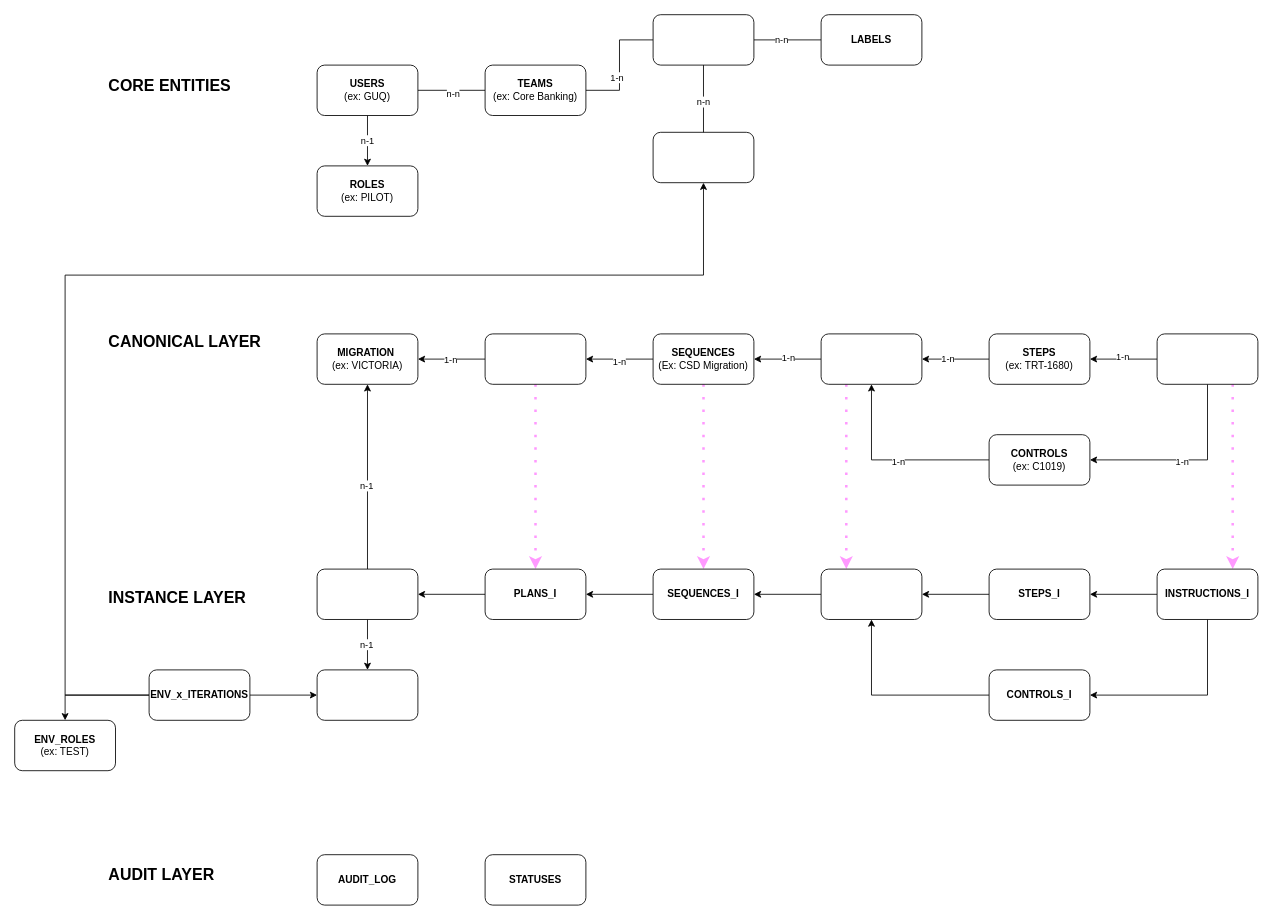
Image size: 1273x920. Some labels were removed from this diagram. Here are the shapes that lost their labels. From the top down, the centre of each, then its label:
the point at 703,39: APPLICATIONS (ex: ATLAS)
the point at 703,157: ENVIRONMENTS (ex: EV4)
the point at 535,358: PLANS ( ex: RUN PLAN)
the point at 871,358: PHASES (ex: SECLI STAGING )
the point at 1207,358: INSTRUCTIONS
the point at 367,594: ITERATIONS (ex: DR2)
the point at 871,594: PHASES_I
the point at 367,694: ITERATION_TYPES (ex: DR)
